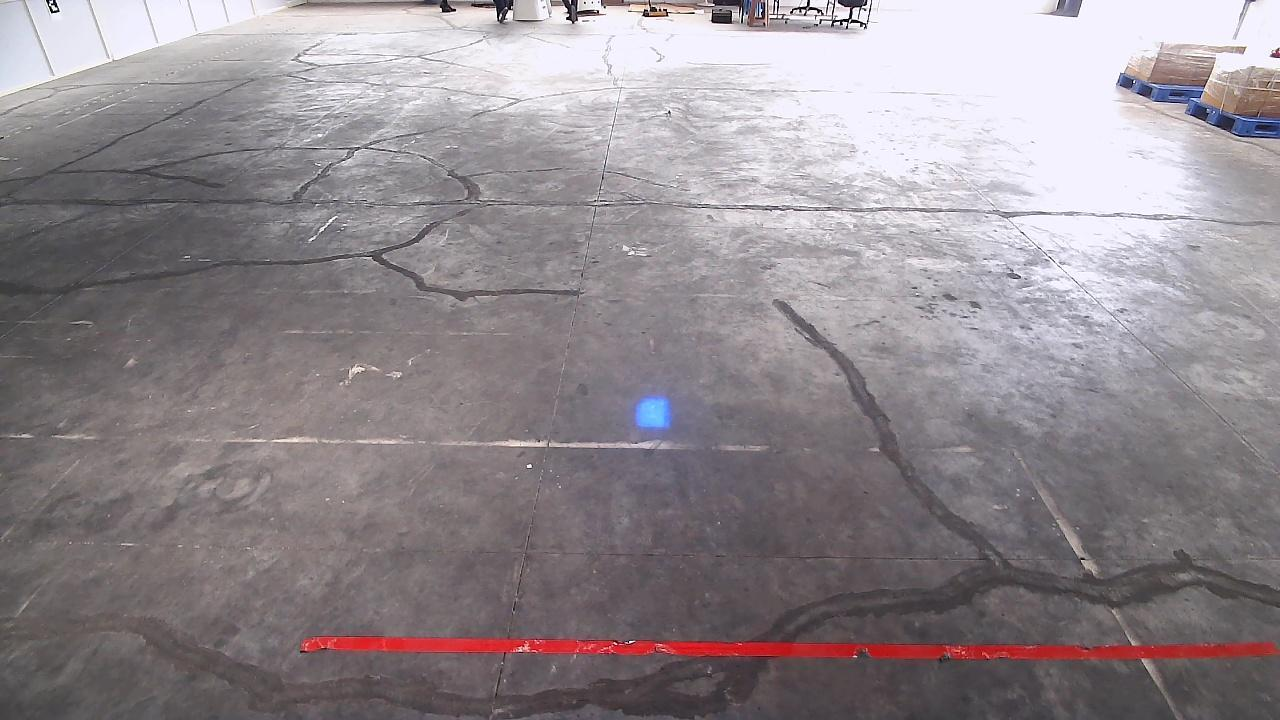red_line: (297, 625, 1279, 667)
